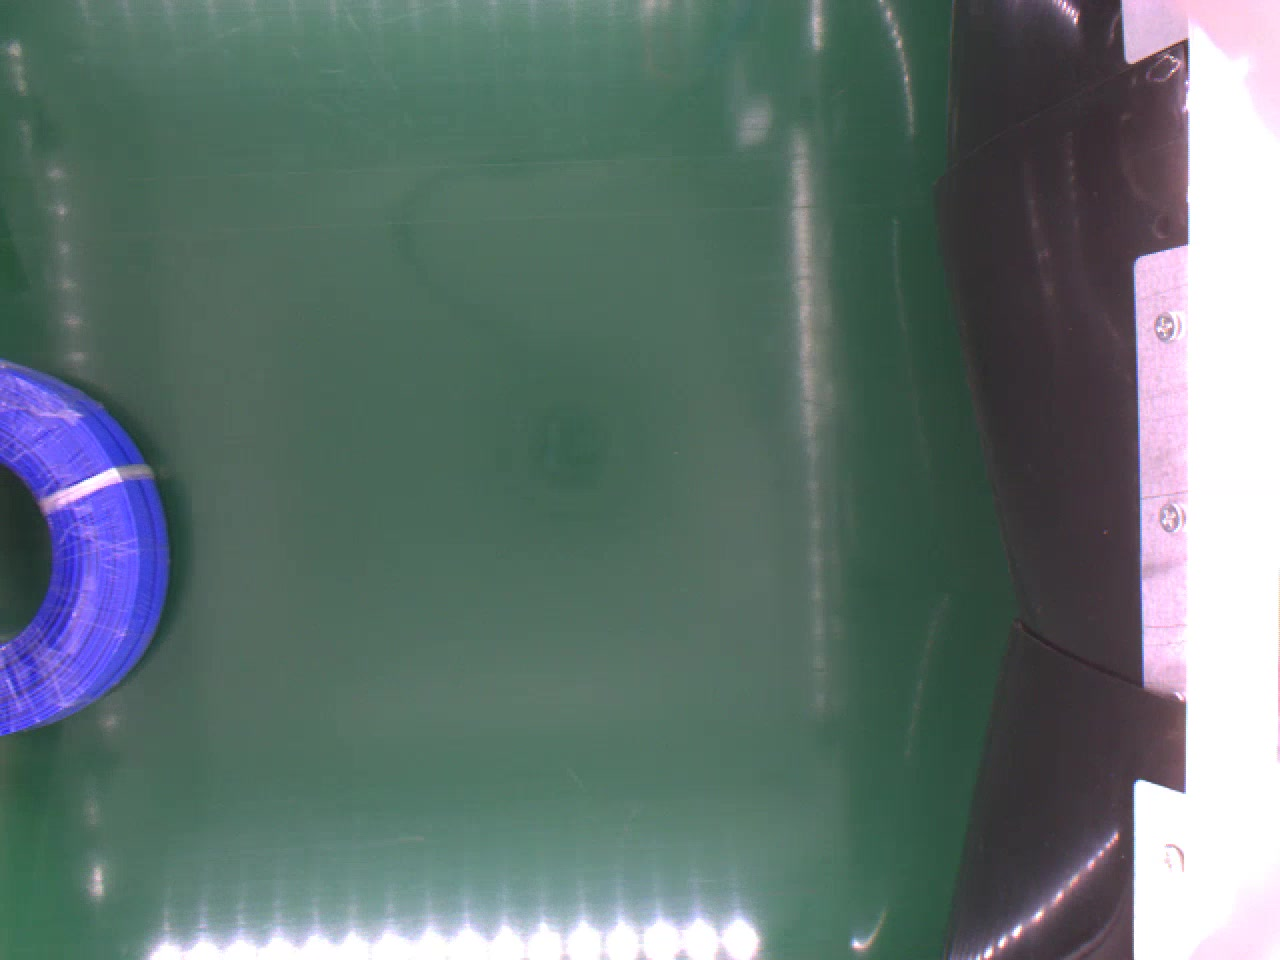blue: (0, 354, 173, 728)
